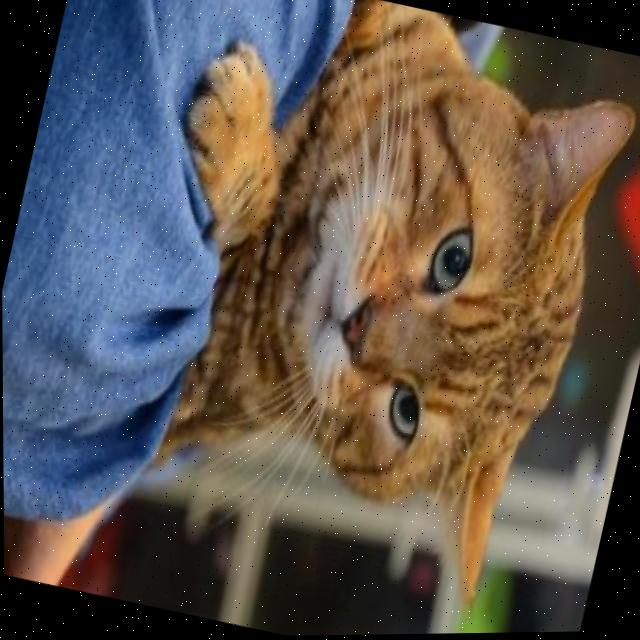Bengal: (88, 0, 640, 639)
